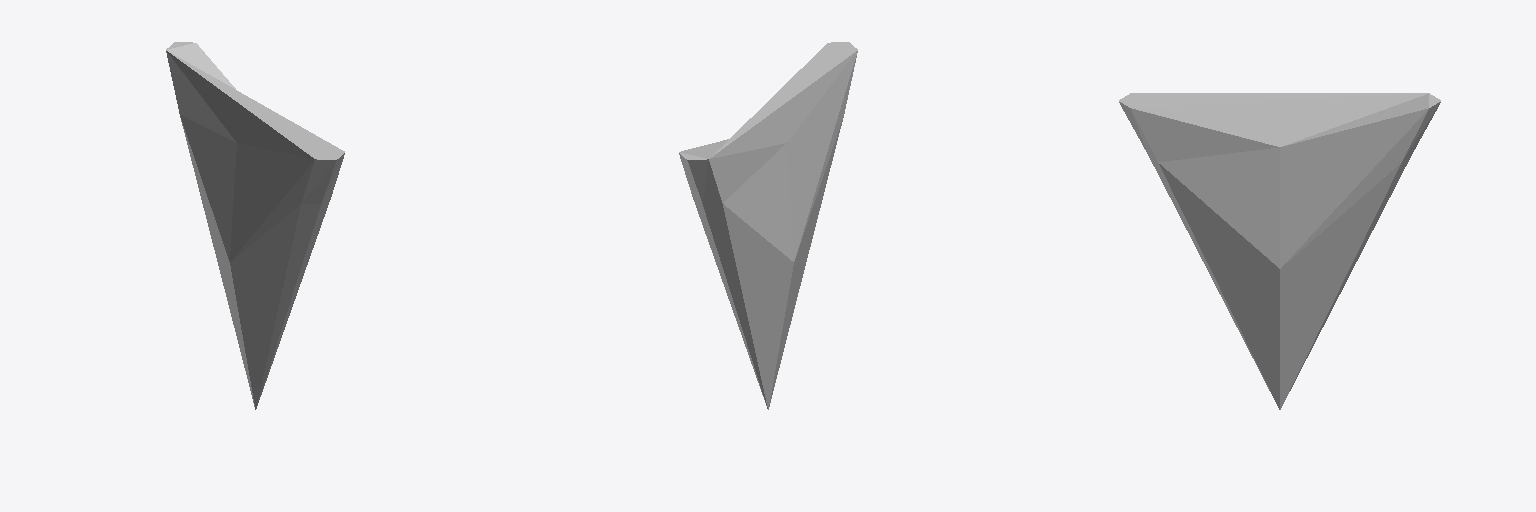
The model's file is arrow.obj.
3 views of the same model, side by side, from view 1: azimuth 30°, elevation 25°; view 2: azimuth 150°, elevation 25°; view 3: azimuth 270°, elevation 25° (orthographic).
Parts seen in each view (by area): view 1: Arrow; view 2: Arrow; view 3: Arrow.
Part boxes in pixels (x1,y1,x2,y2): Arrow: (166, 42, 344, 409); Arrow: (679, 42, 857, 409); Arrow: (1119, 93, 1440, 409).
Bounding box in the file's own units: 0.1942 × 1.1 × 1.04.